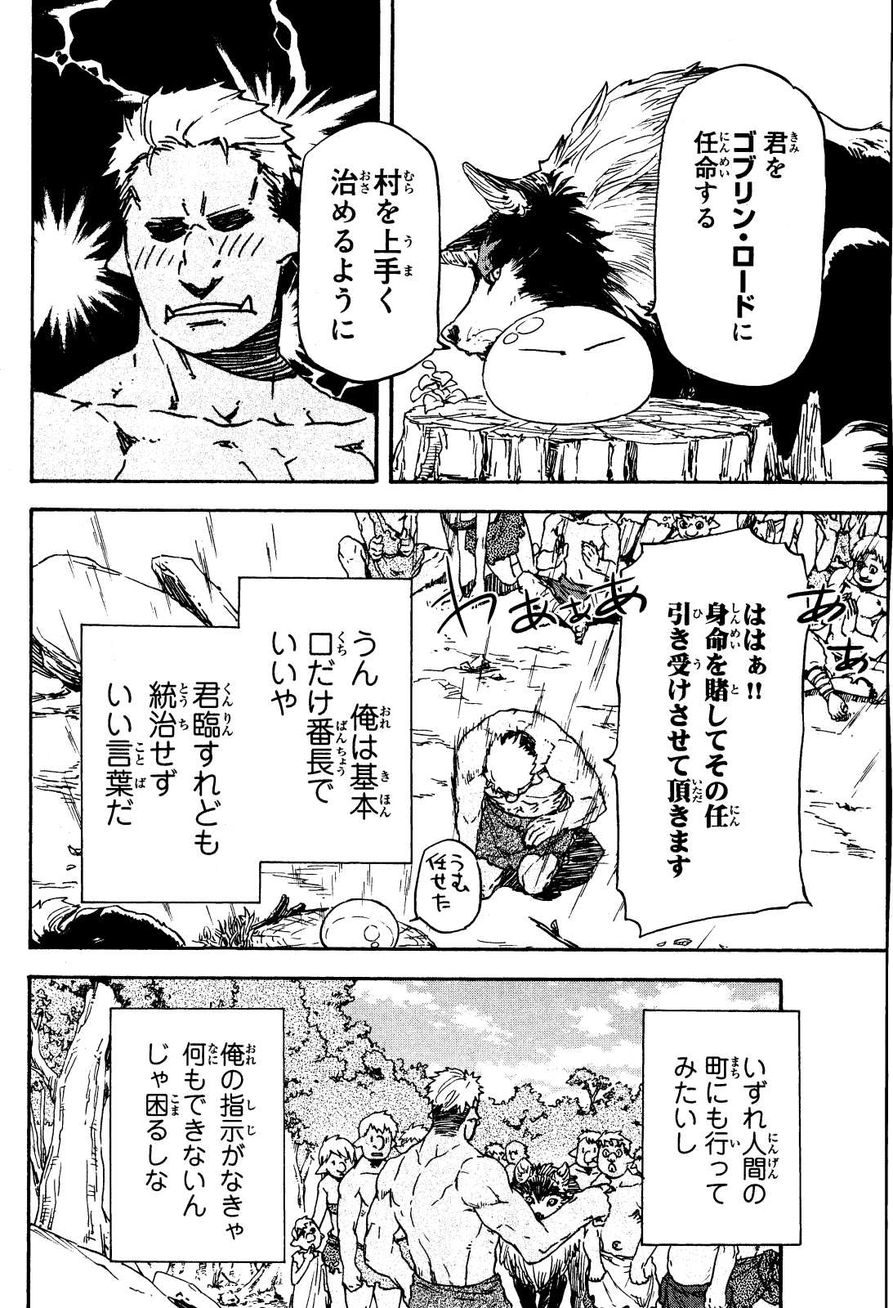bubbles: (76, 570, 419, 910), (605, 527, 823, 941), (637, 57, 835, 387), (103, 1001, 292, 1272), (636, 1005, 807, 1254), (296, 121, 449, 388)
